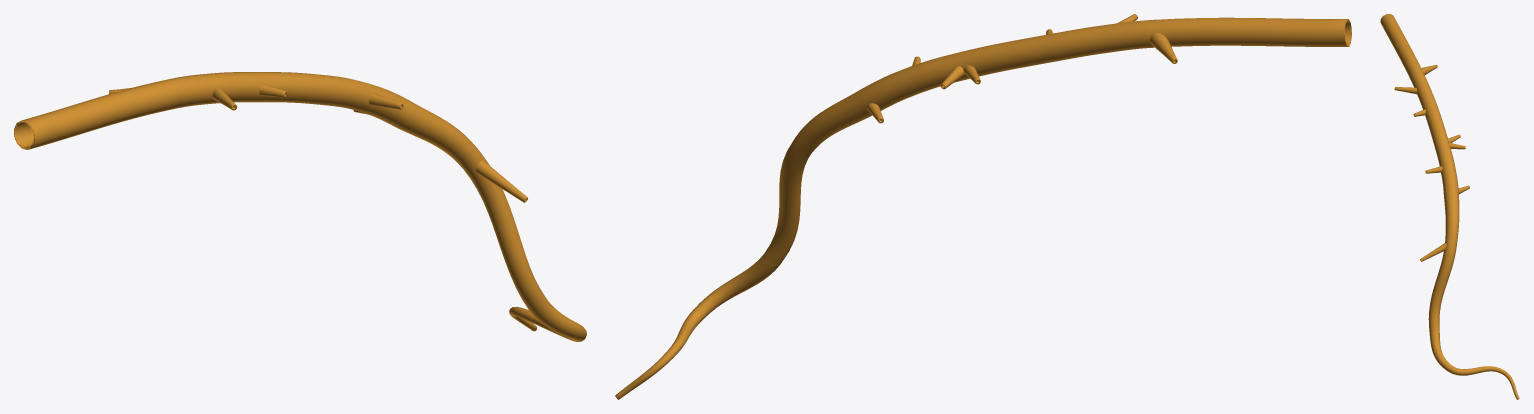
3 views of the same model, side by side, from view 1: azimuth 30°, elevation 25°; view 2: azimuth 150°, elevation 25°; view 3: azimuth 270°, elevation 25° (orthographic). The views are drawn at different scales.
Parts seen in each view (by area): view 1: 副胰管; view 2: 副胰管; view 3: 副胰管.
Boxes of the visible parts, left/top/right/bottom form: 副胰管: left=14, top=72, right=586, bottom=341; 副胰管: left=615, top=14, right=1351, bottom=399; 副胰管: left=1380, top=14, right=1519, bottom=399.
Size of the model in its own units: 0.0507 by 0.0346 by 0.0189.
